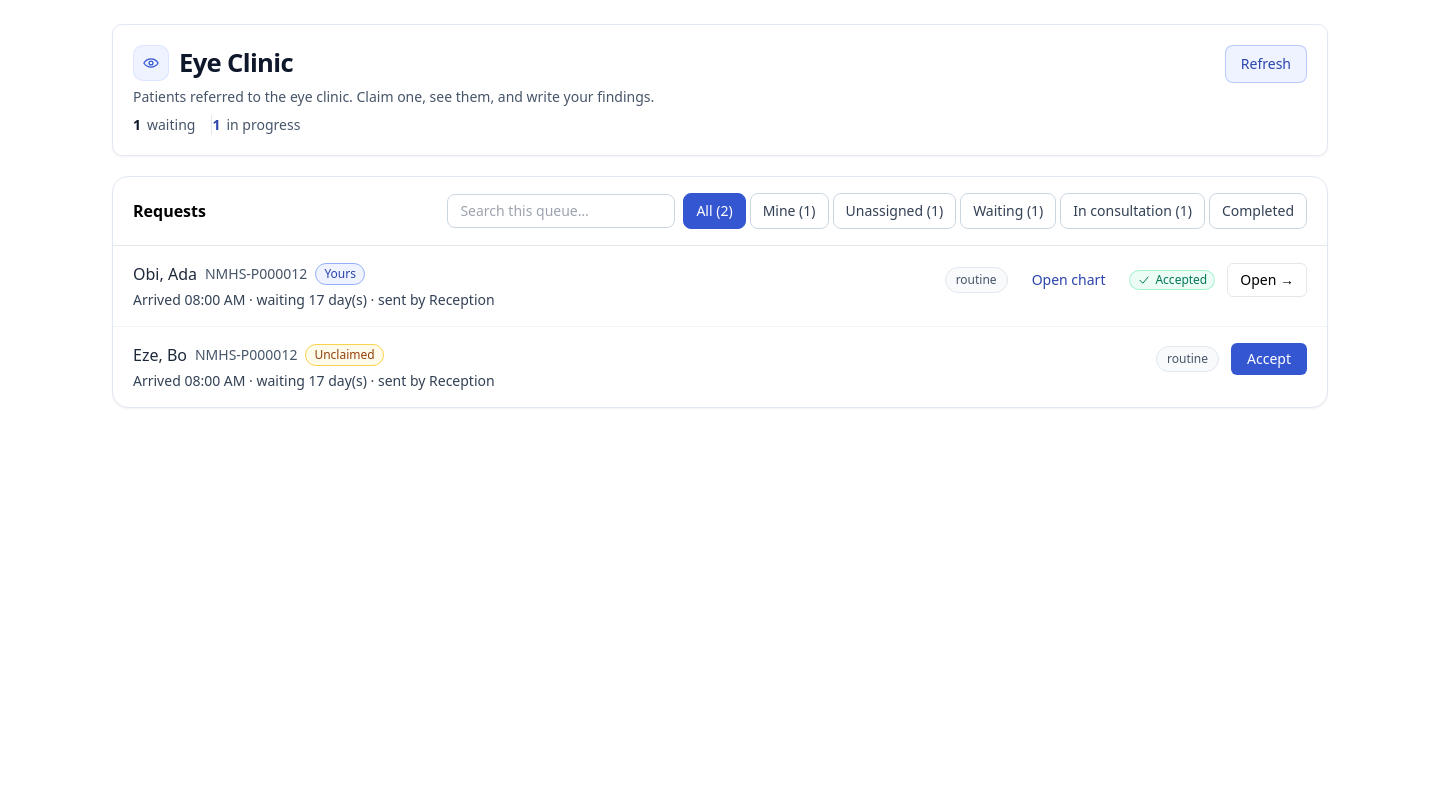
the ophthalmology queue › shows the eye doctor who is in front of them before they open the chart
Click the button "Open →": (1267, 280) 1227,263 -> 1307,297
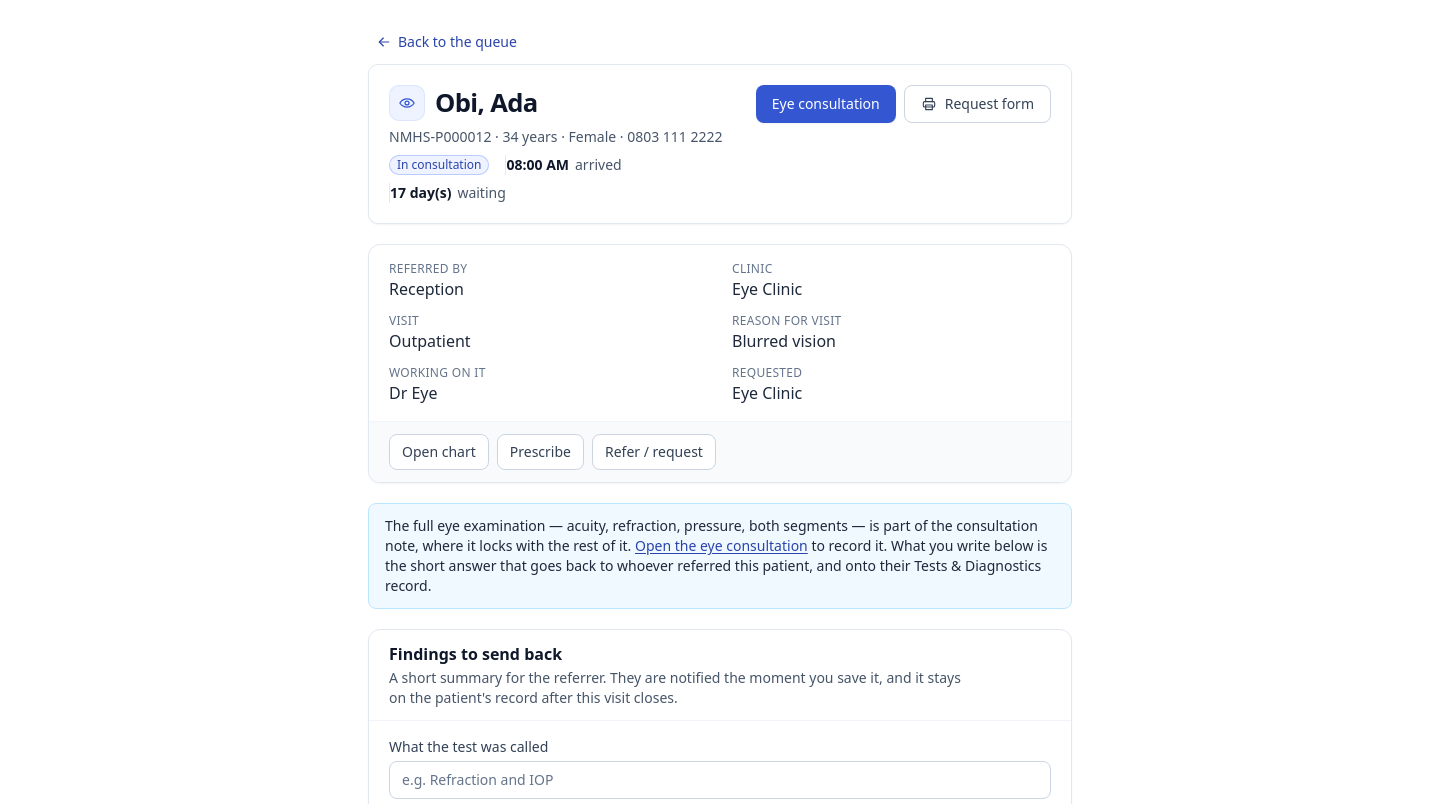
Check: the text "NMHS-P000012 · 34 years · Female · 0803 111 2222" is shown, box 389,127 -> 740,147
Check: the text "Outpatient" is shown, box 389,330 -> 471,352
Check: the text "Blurred vision" is shown, box 732,330 -> 836,352
